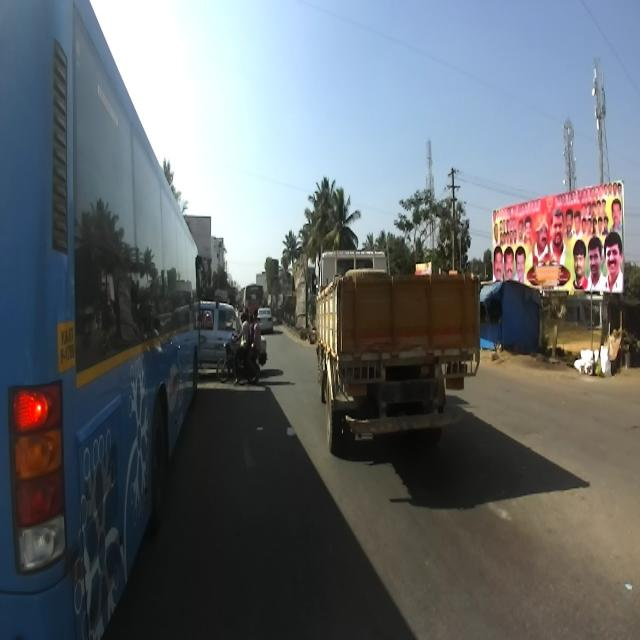bus: (0, 2, 202, 639), (242, 283, 262, 320)
car: (195, 300, 267, 369)
motorcycle: (215, 331, 261, 385)
truck: (311, 244, 481, 456)
